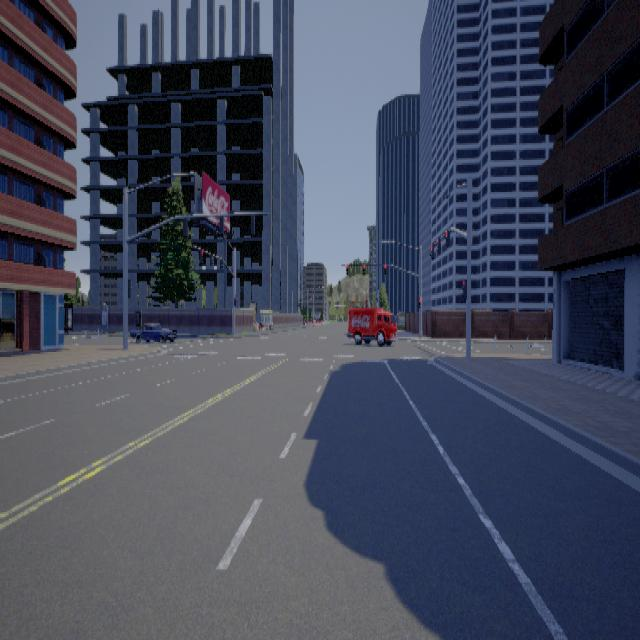red_light: (461, 278, 466, 298), (444, 229, 449, 246), (435, 238, 440, 252), (429, 242, 433, 258), (200, 249, 203, 263), (384, 264, 386, 274), (362, 264, 364, 274), (346, 264, 348, 274)
traffic_light: (209, 252, 212, 264), (219, 258, 222, 268)
vehicle: (346, 307, 397, 345), (129, 322, 177, 342)
